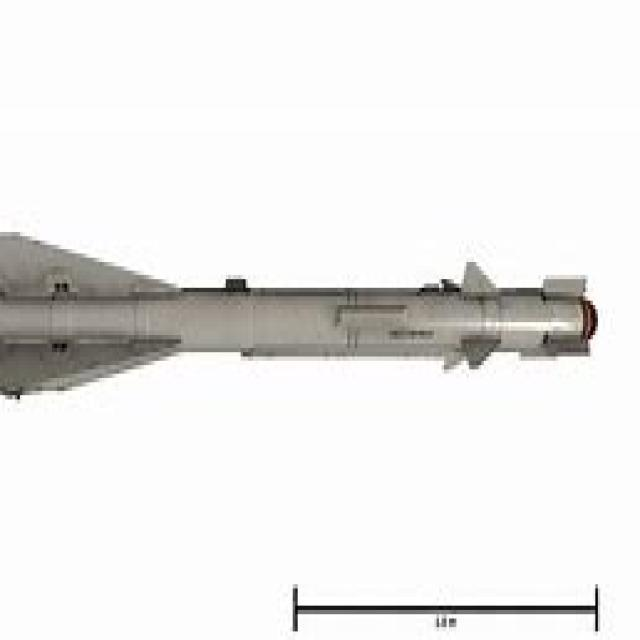missile: (2, 224, 596, 396)
